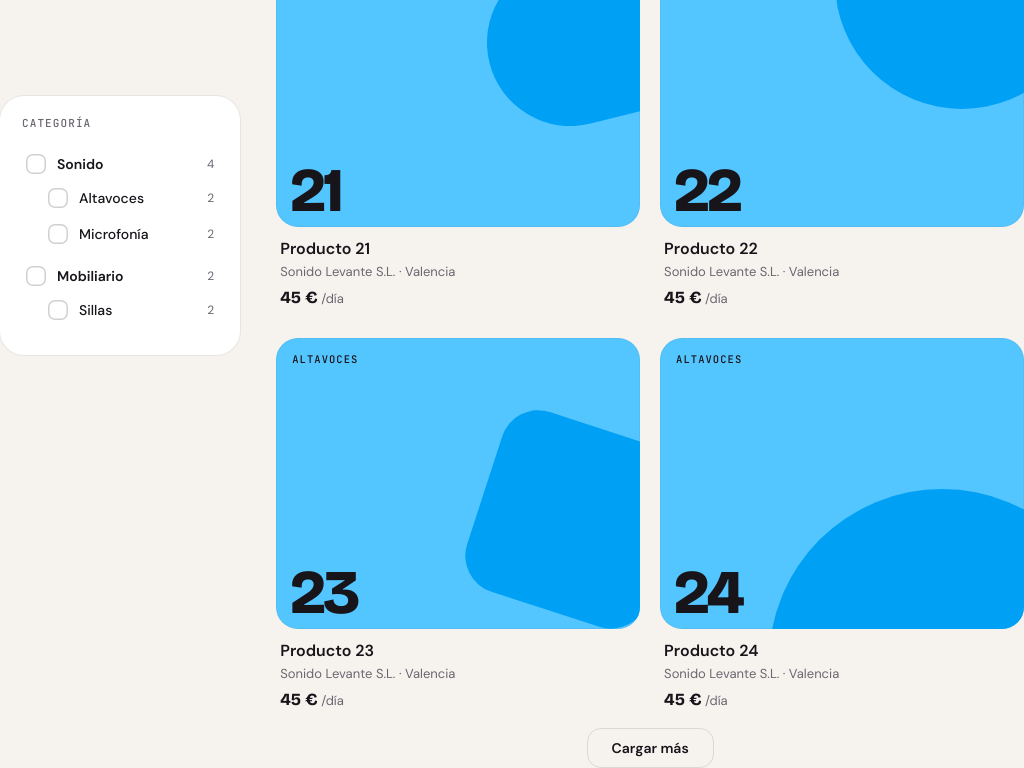
it: Catalog › si falla la pàgina següent conserva els productes ja carregats
This screenshot has width=1024, height=768.
(page scrolled)
Click the button "Cargar más" at (650, 748), box [586, 728, 714, 767]
(page scrolled)
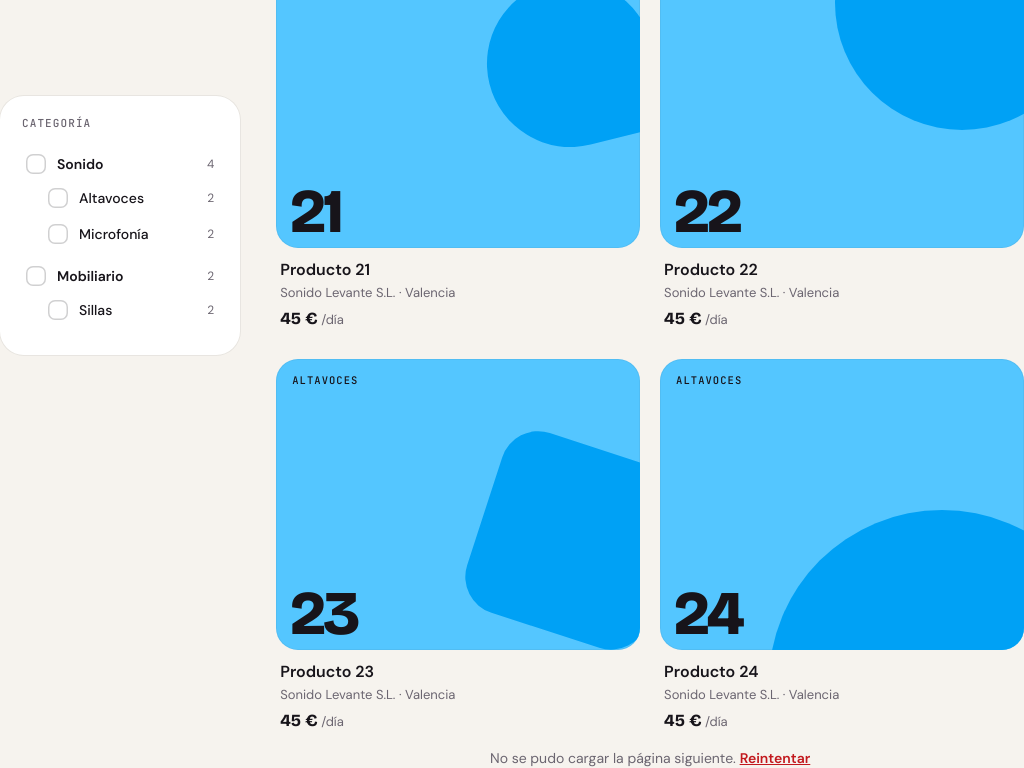
Check: the text "No se pudo cargar la página siguiente. Reintentar" is shown, box [490, 749, 810, 767]
